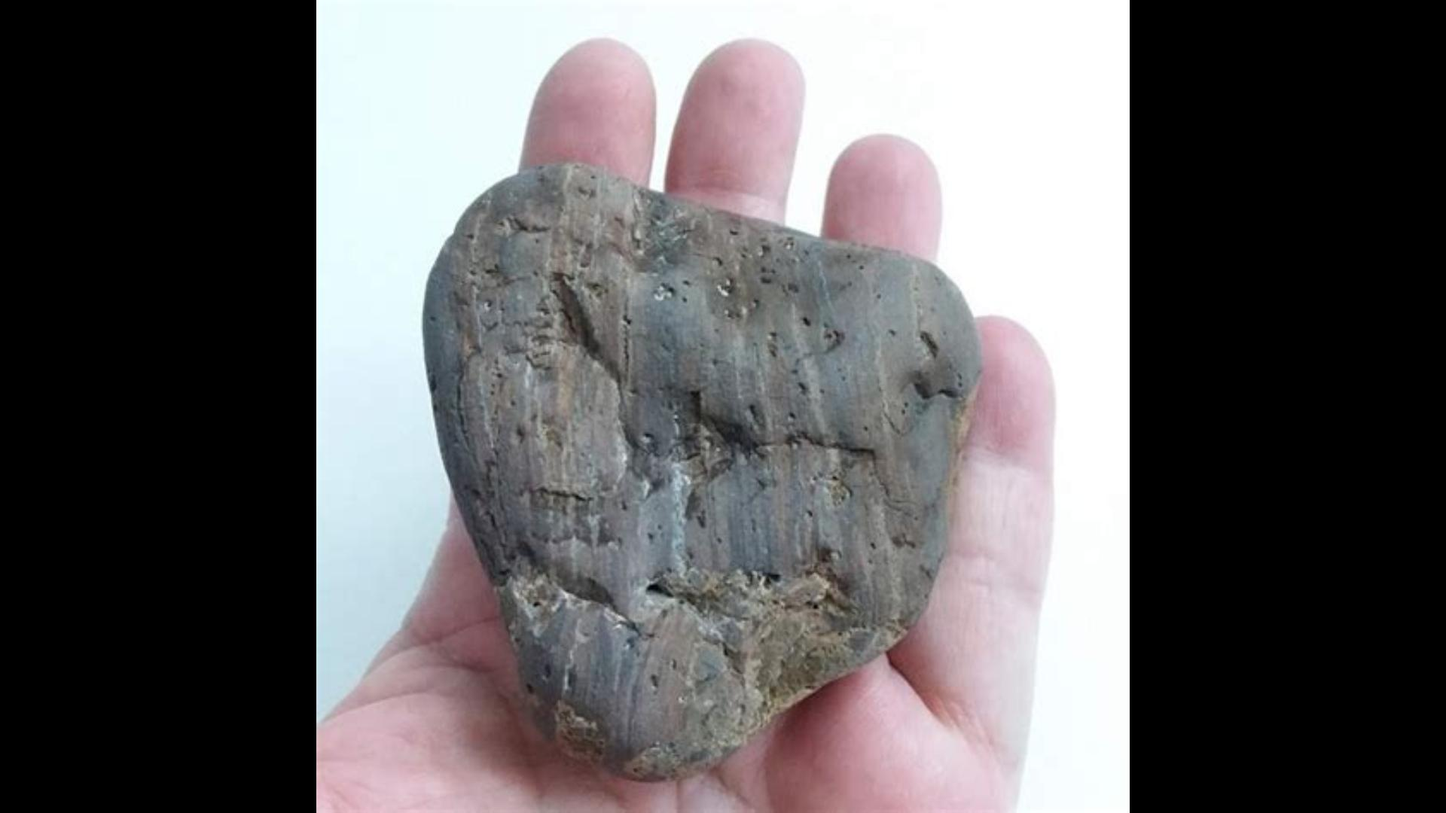rock: (424, 165, 974, 774)
